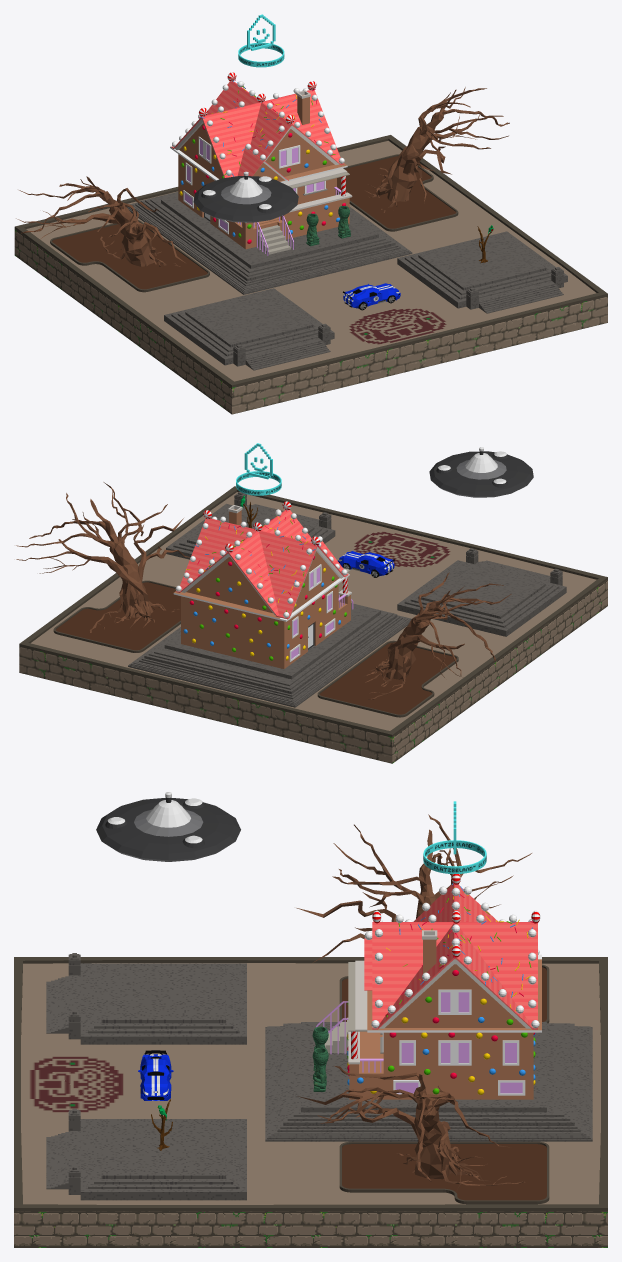
The picture shows the model from 3 angles, top to bottom: view 1: azimuth 30°, elevation 25°; view 2: azimuth 150°, elevation 25°; view 3: azimuth 270°, elevation 25°; orthographic projection. The views are drawn at different scales.
Visible parts, largest first — view 1: Cube.011, Cube.1203, OBJRANDOM_UFO, VEHICLES_RACING_CAR, TYPE_PREMIUM; view 2: Cube.011, Cube.1203, OBJRANDOM_UFO, VEHICLES_RACING_CAR, TYPE_PREMIUM; view 3: Cube.011, Cube.1203, OBJRANDOM_UFO, VEHICLES_RACING_CAR, TYPE_PREMIUM.
Part boxes in pixels (x1,y1,x2,y2): Cube.011: (14, 87, 607, 414); Cube.1203: (170, 72, 352, 255); OBJRANDOM_UFO: (193, 171, 298, 222); VEHICLES_RACING_CAR: (343, 283, 400, 310); TYPE_PREMIUM: (238, 14, 284, 67); Cube.011: (16, 482, 607, 763); Cube.1203: (173, 501, 353, 668); OBJRANDOM_UFO: (429, 447, 533, 497); VEHICLES_RACING_CAR: (338, 551, 394, 577); TYPE_PREMIUM: (236, 443, 281, 495); Cube.011: (14, 814, 607, 1247); Cube.1203: (316, 874, 541, 1099); OBJRANDOM_UFO: (96, 792, 240, 861); VEHICLES_RACING_CAR: (138, 1050, 173, 1100); TYPE_PREMIUM: (423, 801, 486, 873).
Size of the model in its own units: 5099 by 2483 by 4000.
45 materials, 7 textured.
